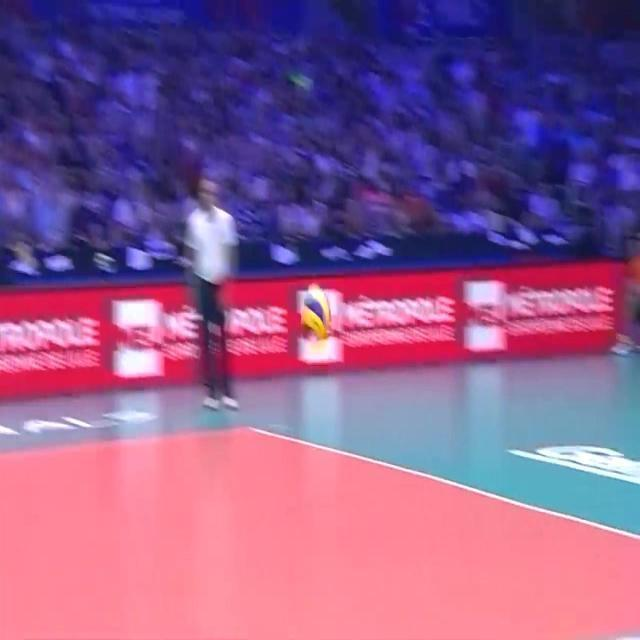volleyball: (298, 286, 333, 348)
